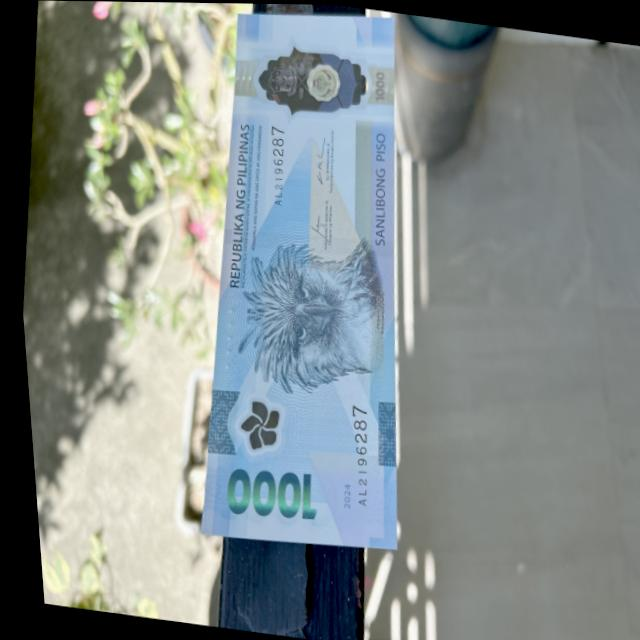clear_window: (250, 36, 369, 123)
eagle: (223, 225, 394, 407)
sampaguita: (231, 394, 277, 452)
